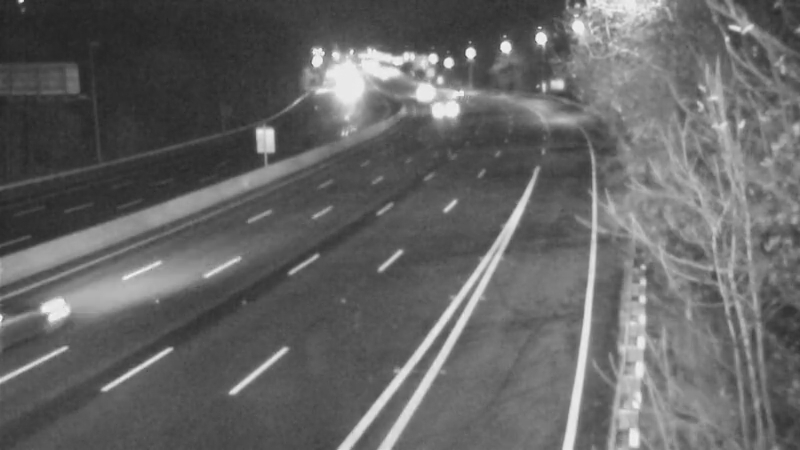vehicle: (1, 259, 100, 369), (430, 67, 480, 117), (400, 70, 450, 120), (416, 85, 466, 135)
